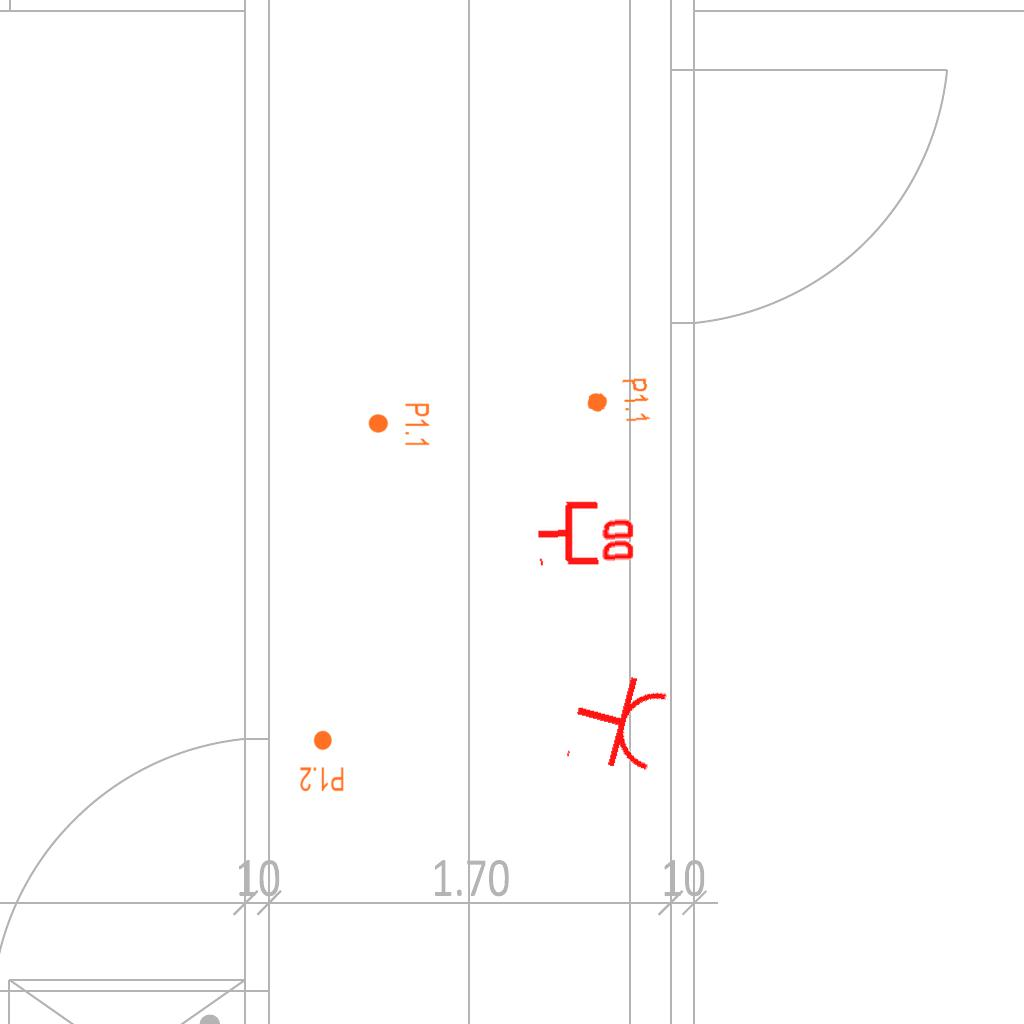Datenanschluss_zweifach: (534, 496, 639, 567)
Downlight_LED_Einbauleuchten_Flur: (584, 376, 652, 428), (299, 729, 345, 793), (367, 402, 431, 448)
Schukosteckdose_einfach: (562, 663, 673, 783)
